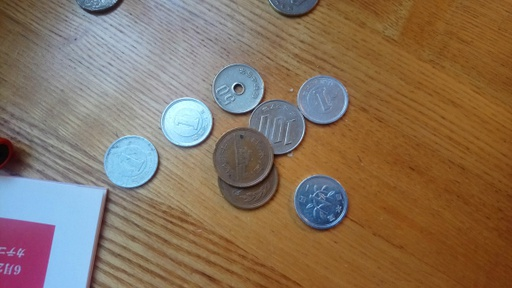100yen: (249, 99, 305, 155)
10yen: (214, 129, 273, 187), (219, 159, 277, 209)
1yen: (104, 135, 158, 188), (294, 175, 347, 229), (160, 97, 213, 147), (297, 75, 348, 125)
50yen: (212, 64, 264, 114)
